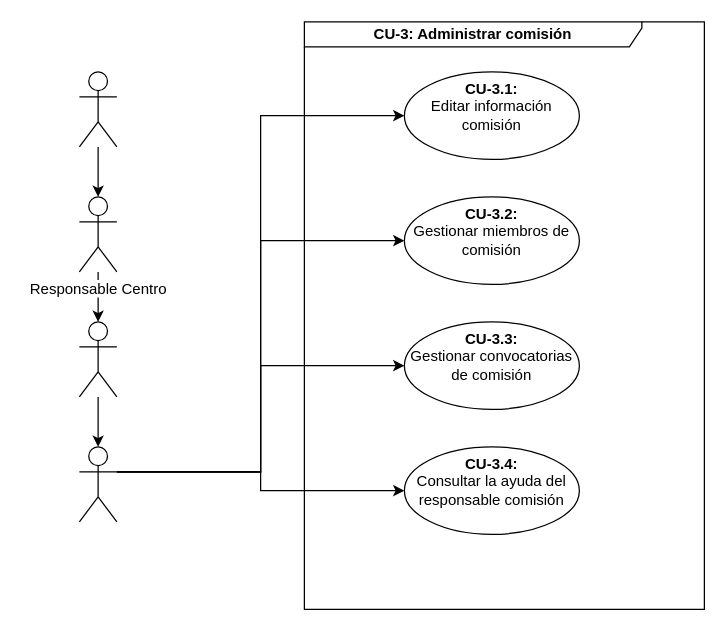
Image size: 726x631. Some labels were removed from this diagram. The shapes that lost their labels are listed below. From the top down, each one's box as (x1, y1, x2, y2) in pixels, then its label:
(78, 71, 117, 147): Administrador
(78, 321, 117, 397): Responsable Junta
(78, 446, 117, 522): Responsable Comisión
